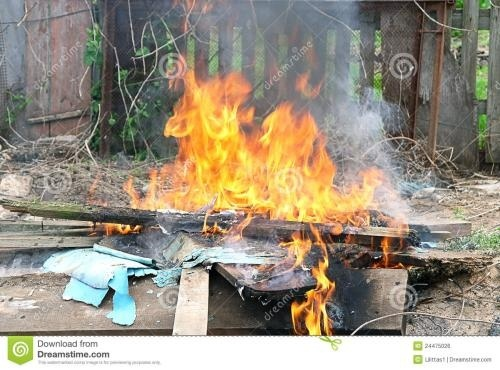fire: (131, 63, 394, 226), (279, 223, 338, 334), (84, 175, 144, 234), (199, 209, 253, 239)
